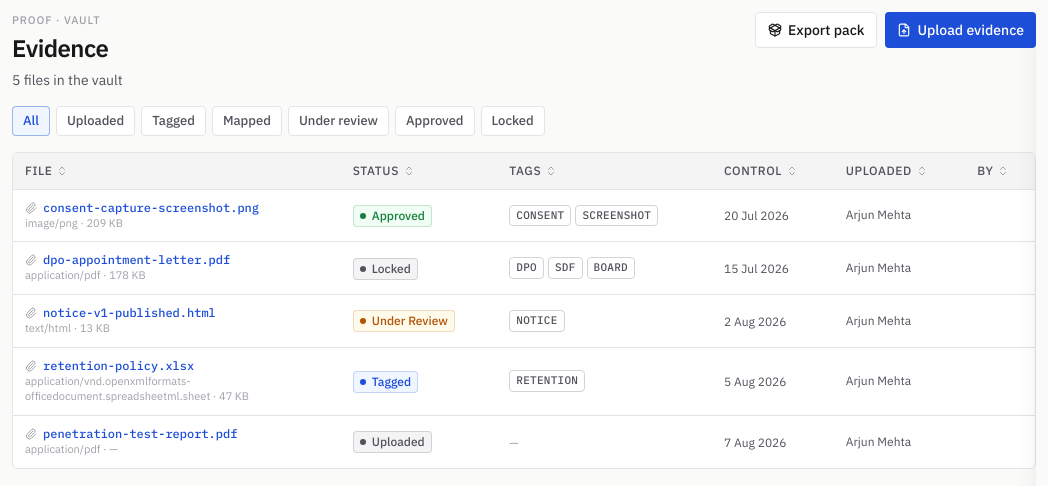
Test case: EvidenceView (§9.10) › filters by status
The image size is (1048, 486).
Expected: the text "consent-capture-screenshot.png" is shown, [43, 200, 259, 216]
Click the button "Approved": point(435, 121) [395, 106, 475, 136]
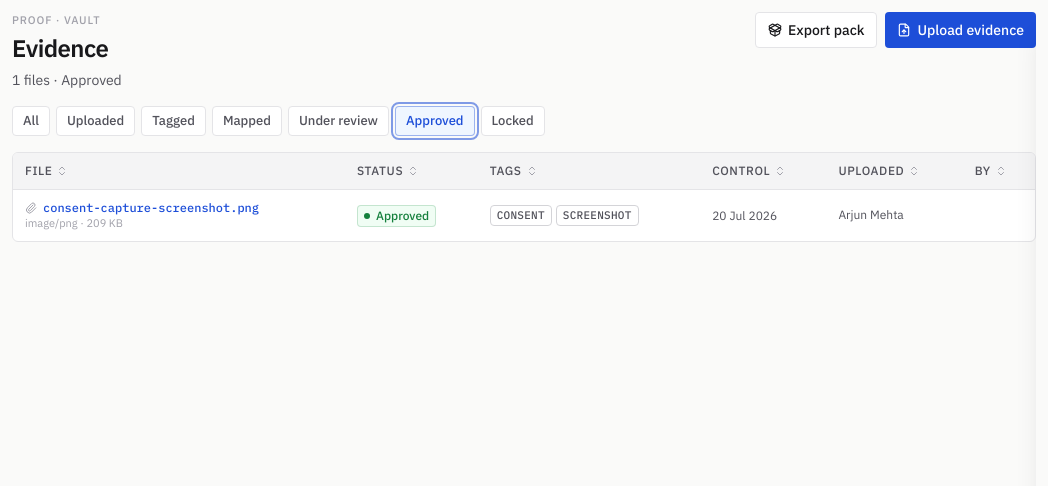
Expected: the text "consent-capture-screenshot.png" is shown, [43, 200, 259, 216]
Result: the text "dpo-appointment-letter.pdf" is gone
Result: the text "1 files · Approved" is shown at [12, 70, 122, 90]
